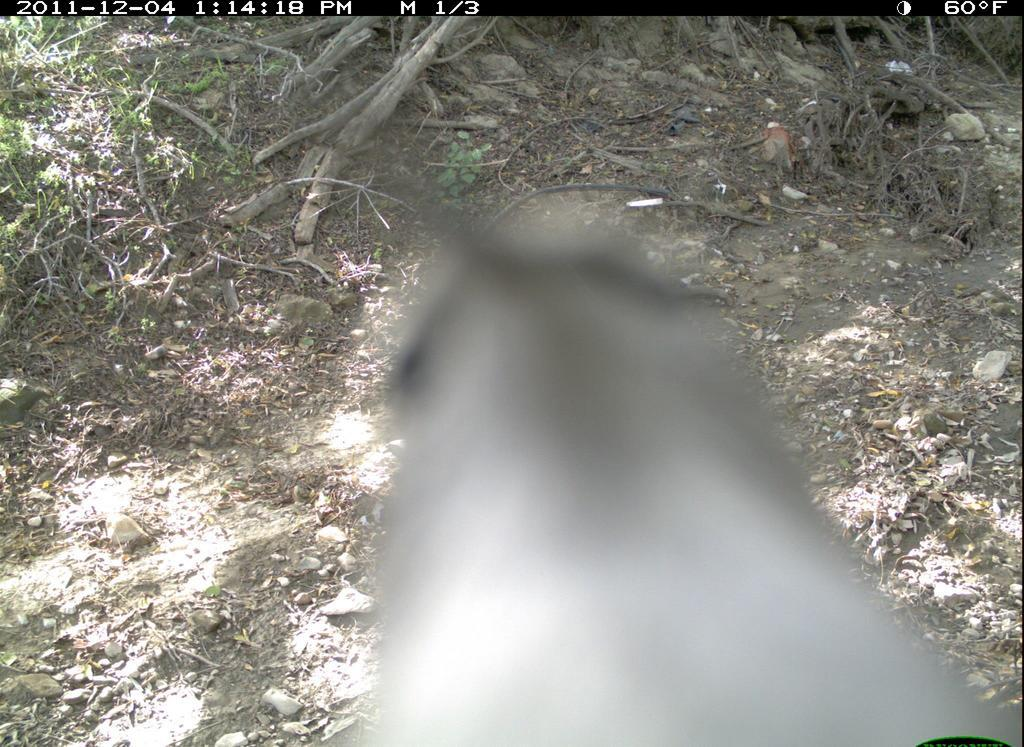bird: (342, 132, 1021, 747)
